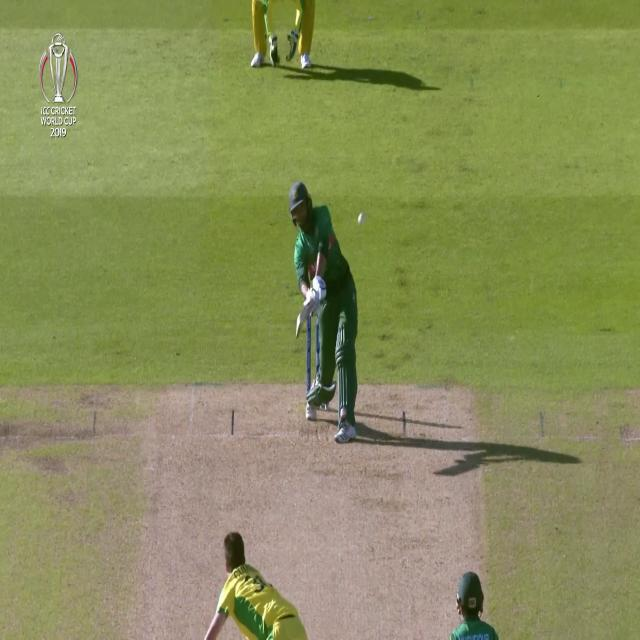ball: (355, 208, 367, 231)
